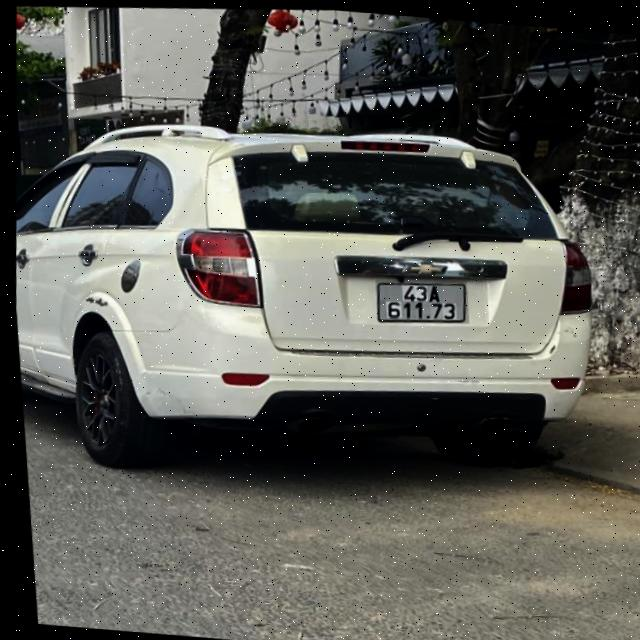car: (5, 96, 627, 506)
plate: (367, 268, 477, 334)
